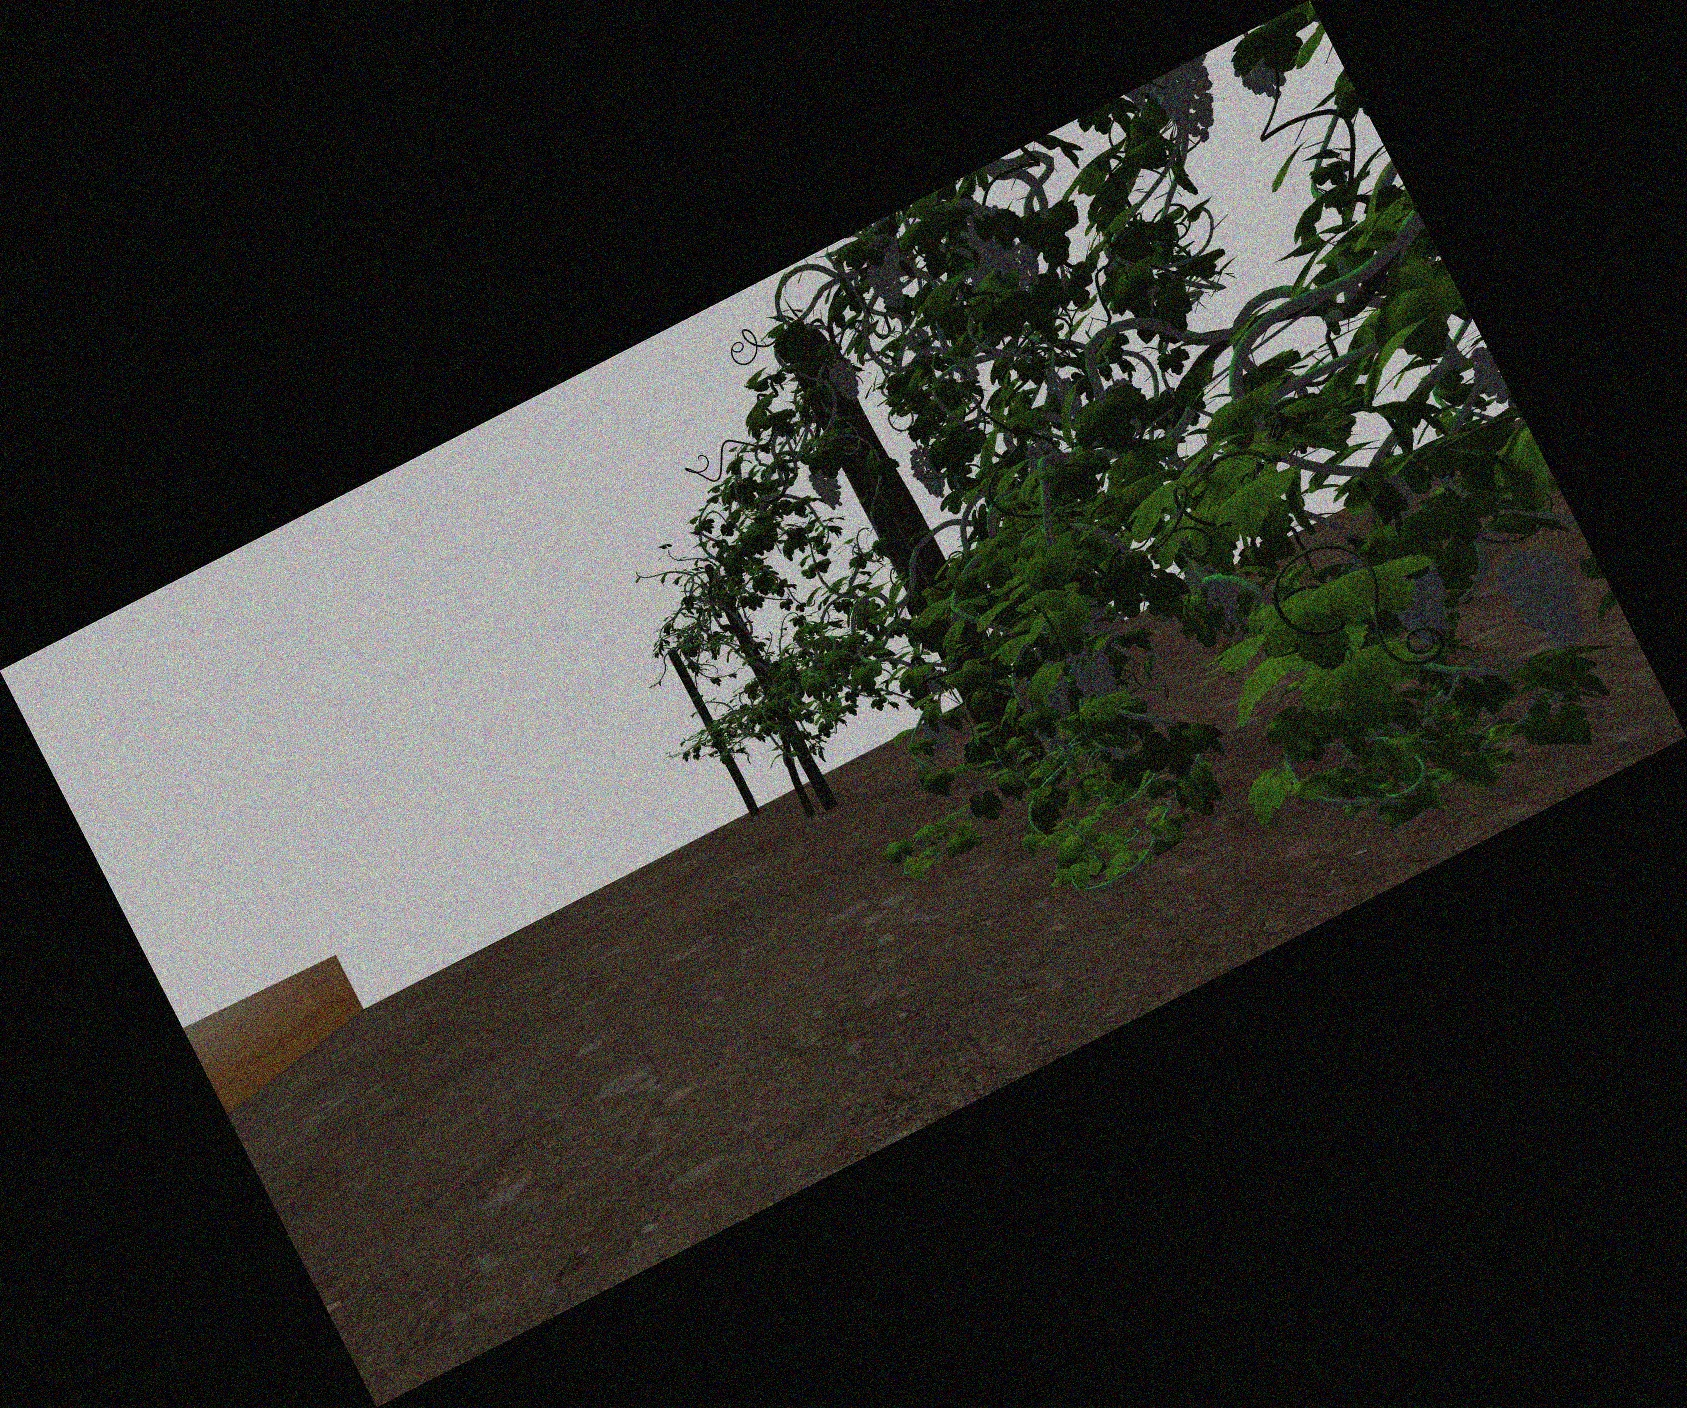grape: (1510, 551, 1585, 646), (1390, 572, 1454, 644), (1162, 78, 1223, 142), (972, 207, 1012, 270), (1072, 646, 1110, 700), (1243, 57, 1285, 102), (1206, 569, 1237, 625), (873, 262, 904, 310), (915, 448, 942, 499), (1012, 245, 1042, 289), (815, 468, 843, 511), (834, 360, 860, 403), (1471, 352, 1495, 394), (1047, 679, 1073, 715), (928, 717, 949, 752)
